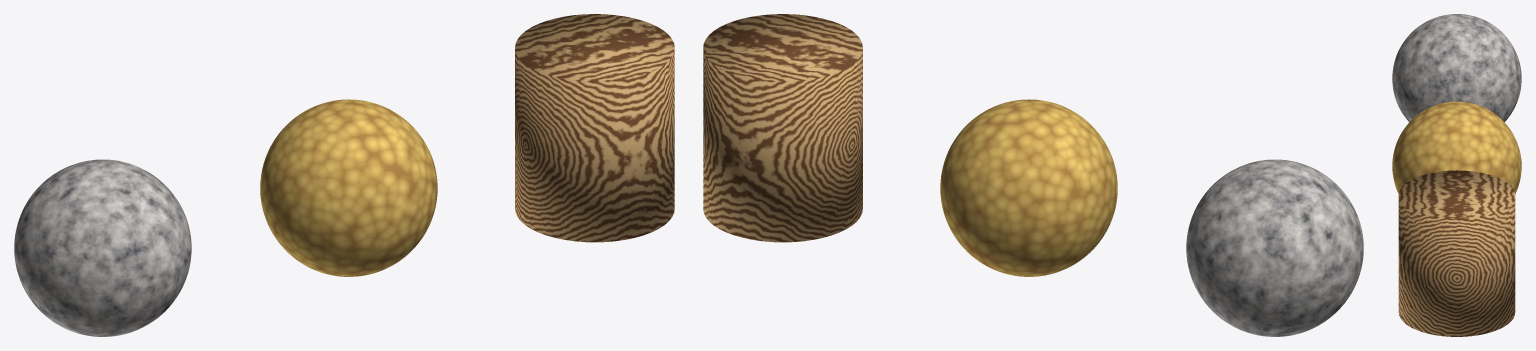
Rendered from procedural_lab.glb.
The picture shows the model from 3 angles, left to right: view 1: azimuth 30°, elevation 25°; view 2: azimuth 150°, elevation 25°; view 3: azimuth 270°, elevation 25°; orthographic projection. The views are drawn at different scales.
Visible parts, largest first — view 1: Wave_Woodgrain, Noise_Granite, Voronoi_GoldScales; view 2: Wave_Woodgrain, Noise_Granite, Voronoi_GoldScales; view 3: Wave_Woodgrain, Noise_Granite, Voronoi_GoldScales.
Boxes of the visible parts, bbox=[...] form: Wave_Woodgrain: bbox=[515, 14, 674, 242]; Noise_Granite: bbox=[14, 159, 191, 336]; Voronoi_GoldScales: bbox=[260, 99, 437, 276]; Wave_Woodgrain: bbox=[703, 14, 862, 242]; Noise_Granite: bbox=[1186, 159, 1363, 336]; Voronoi_GoldScales: bbox=[940, 99, 1117, 276]; Wave_Woodgrain: bbox=[1398, 170, 1515, 336]; Noise_Granite: bbox=[1392, 14, 1521, 122]; Voronoi_GoldScales: bbox=[1392, 101, 1521, 194].
Size of what is drawn, in the model's own units: 8.3 by 2 by 2.
3 materials, 3 textured.
